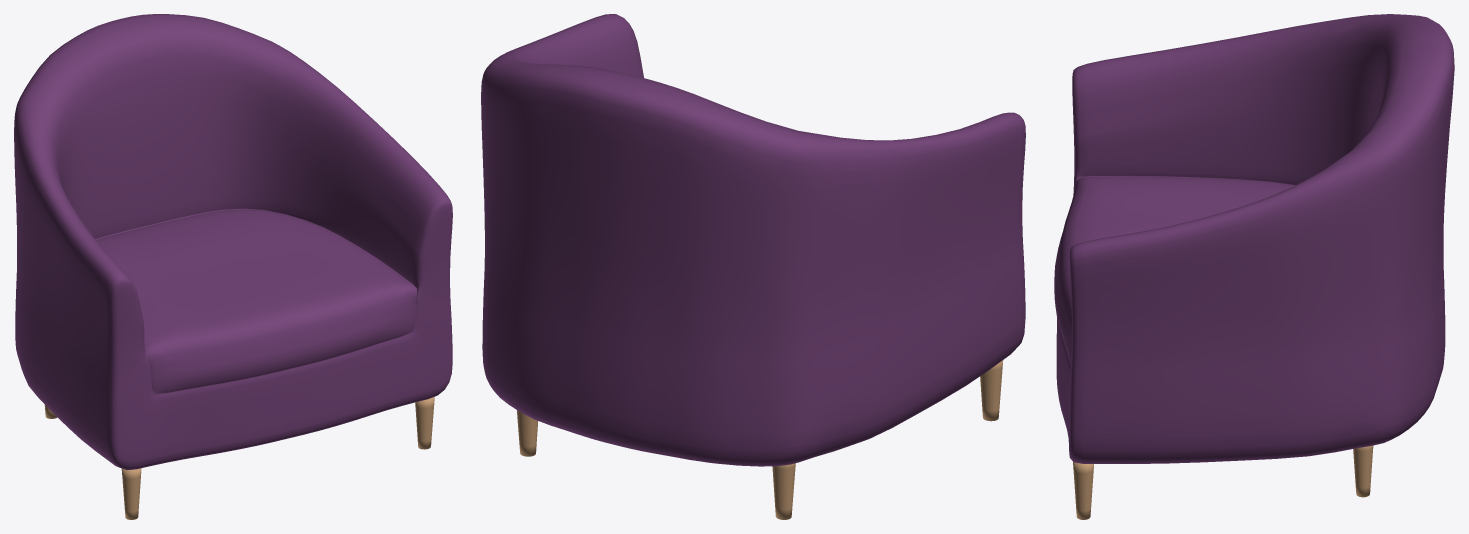
File: sofa1#45.fbx
The picture shows the model from 3 angles, left to right: view 1: azimuth 30°, elevation 25°; view 2: azimuth 150°, elevation 25°; view 3: azimuth 270°, elevation 25°; orthographic projection. The views are drawn at different scales.
Parts seen in each view (by area): view 1: Loft02, Object01; view 2: Loft02, Object01; view 3: Loft02, Object01.
Part boxes in pixels (x1,y1,x2,y2): Loft02: (14, 14, 452, 470); Object01: (44, 397, 434, 519); Loft02: (481, 14, 1025, 466); Object01: (517, 360, 1003, 519); Loft02: (1054, 14, 1454, 463); Object01: (1073, 445, 1373, 519).
Bounding box in the file's own units: 1.99 × 1.92 × 1.78.
